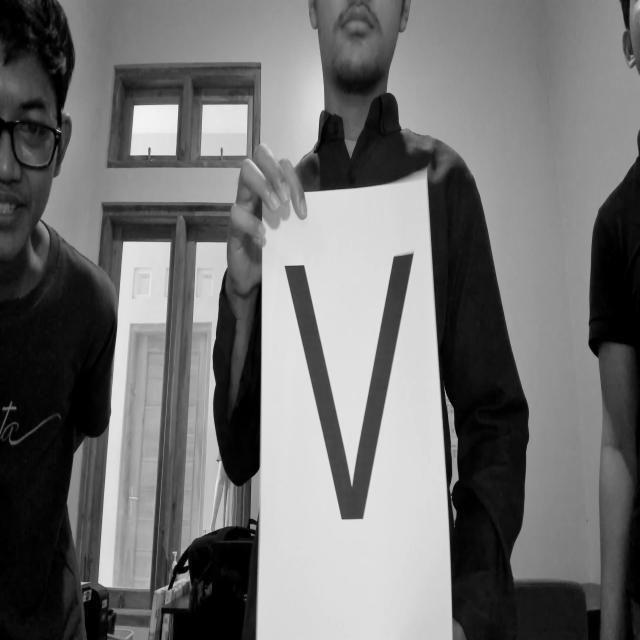v: (275, 249, 433, 539)
